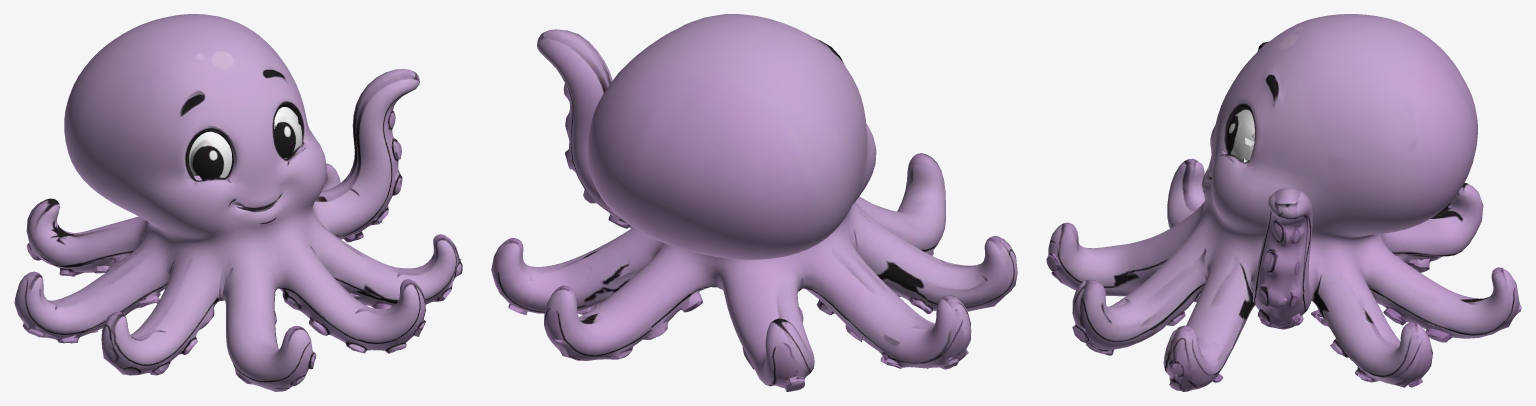
The model's file is pet_inky.glb.
The picture shows the model from 3 angles, left to right: view 1: azimuth 30°, elevation 25°; view 2: azimuth 150°, elevation 25°; view 3: azimuth 270°, elevation 25°; orthographic projection. The views are drawn at different scales.
Size of the model in its own units: 1.88 by 1.26 by 1.88.
1 material, 1 textured.
